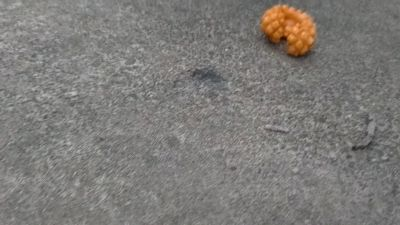eggs: (259, 4, 319, 58)
